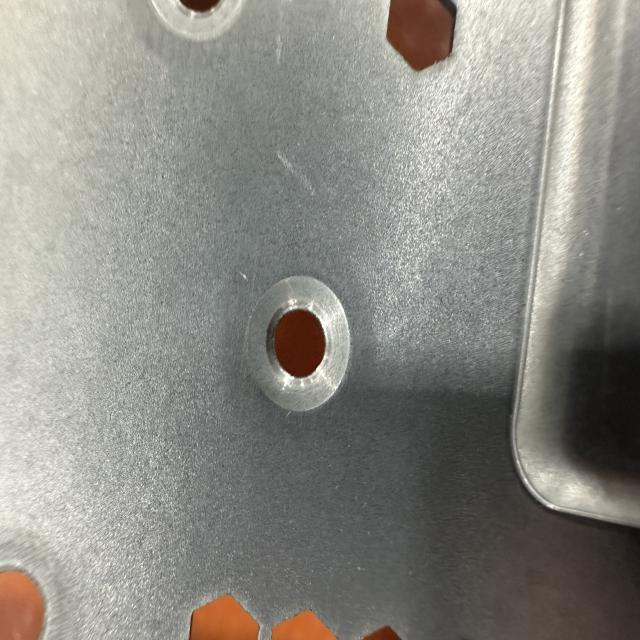Missing screw: (234, 264, 360, 424)
